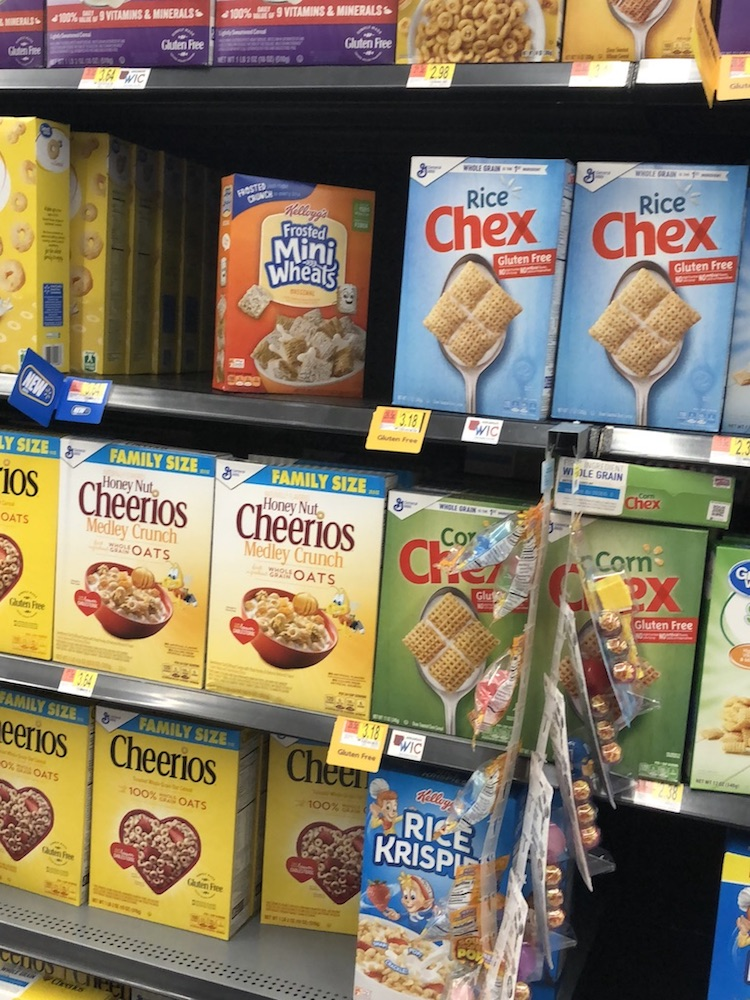Frosted Mini Original -9295869: (222, 172, 377, 399)
